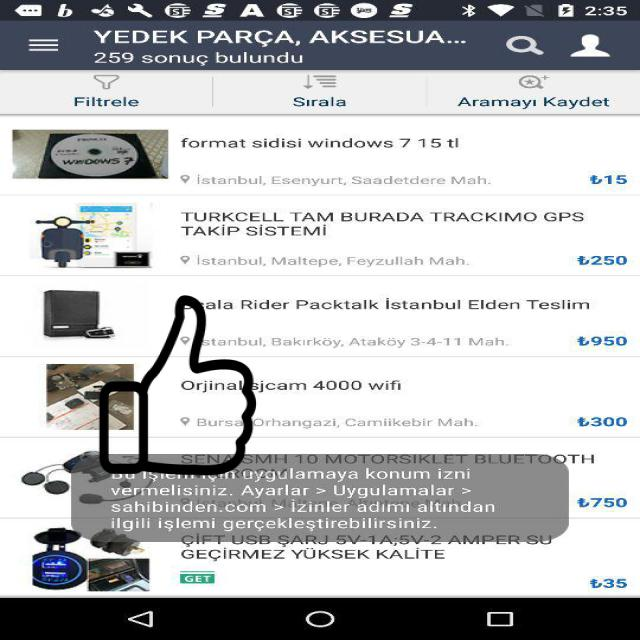privacy zuckering: (98, 296, 258, 476)
